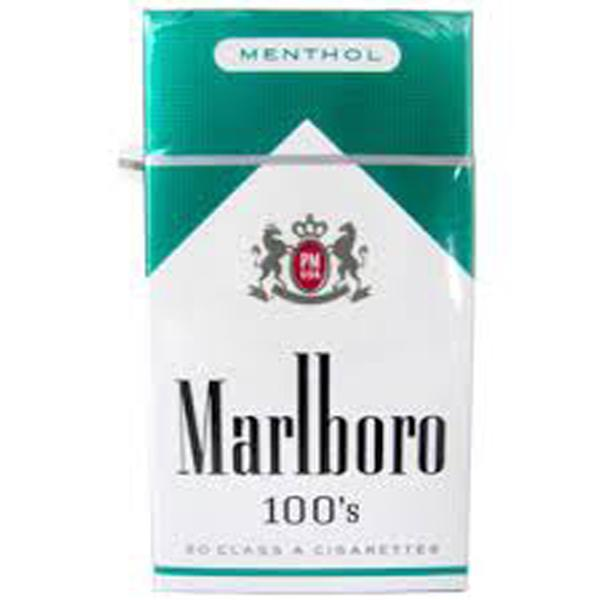marlboro_mentol: (148, 12, 472, 589)
